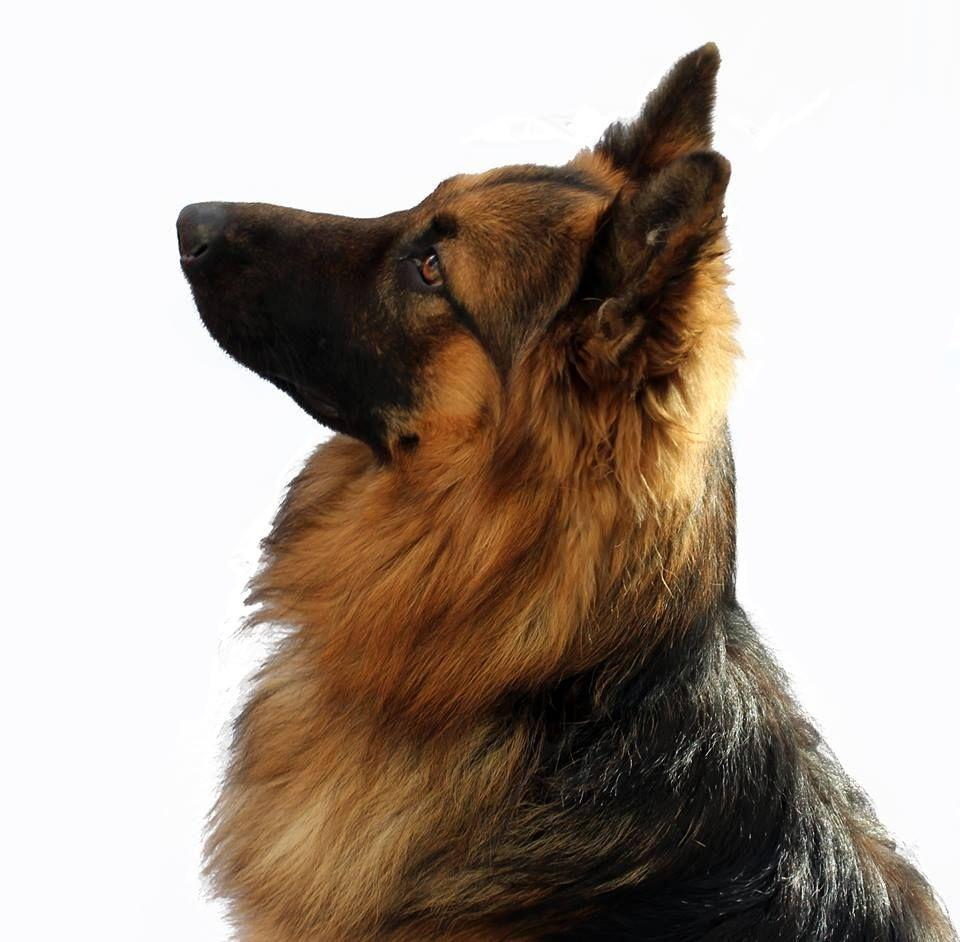adult_dog: (175, 36, 960, 942)
